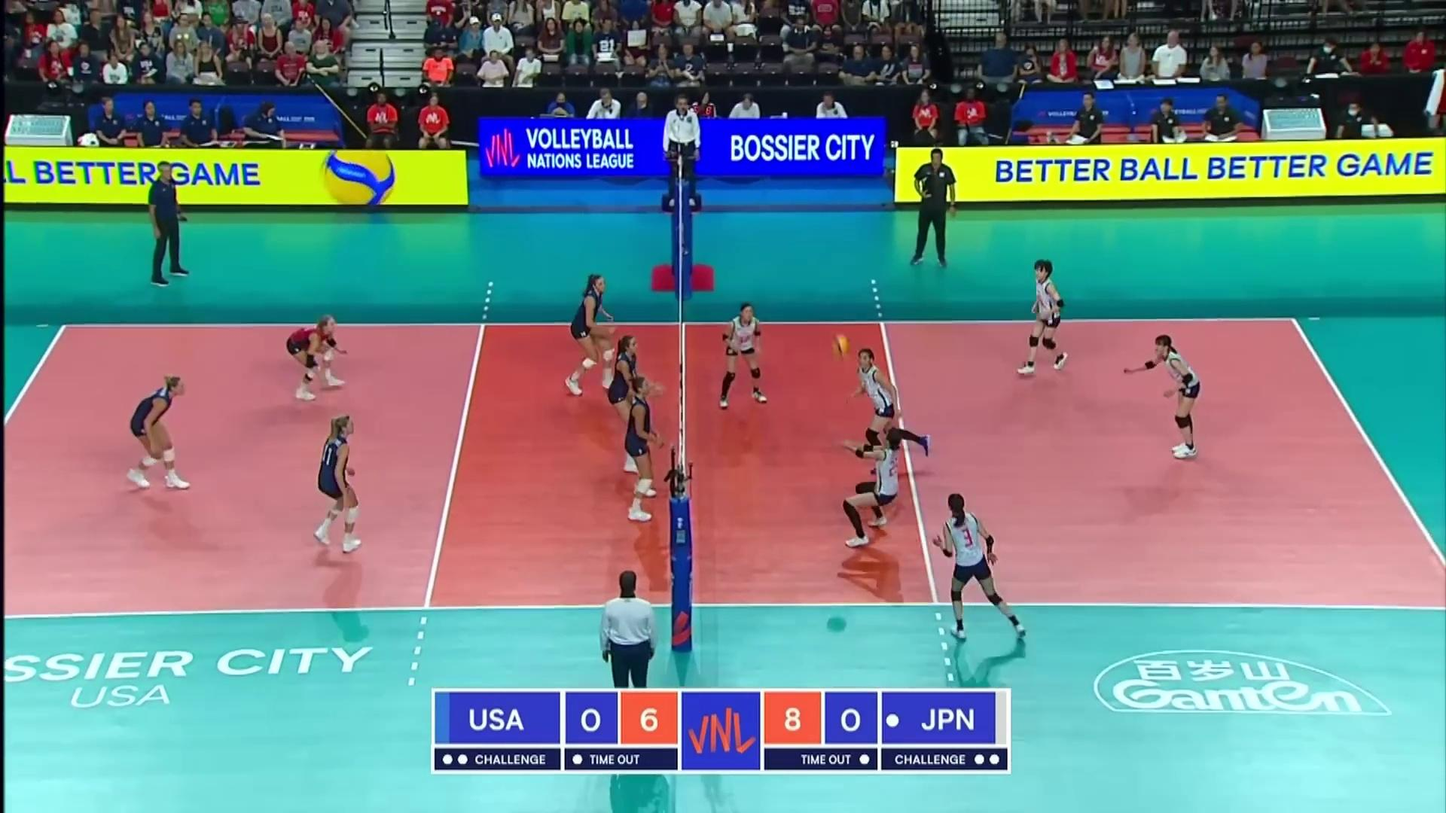player: (932, 493, 1028, 641), (1120, 336, 1200, 460), (853, 348, 932, 471), (126, 374, 193, 493), (843, 429, 906, 549), (566, 271, 621, 405), (313, 417, 364, 554), (1015, 262, 1075, 375), (623, 378, 668, 525), (609, 337, 657, 473), (287, 317, 349, 401), (720, 304, 769, 409)
refree: (600, 574, 660, 689), (661, 96, 701, 207)
